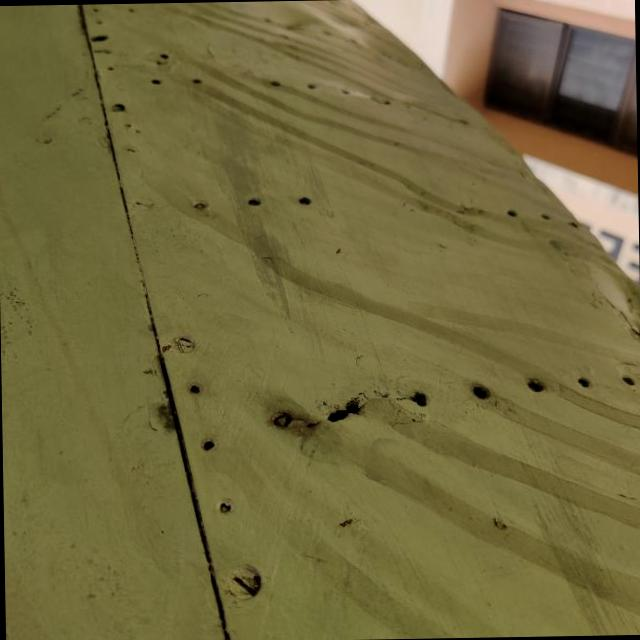crack: (317, 383, 383, 438)
